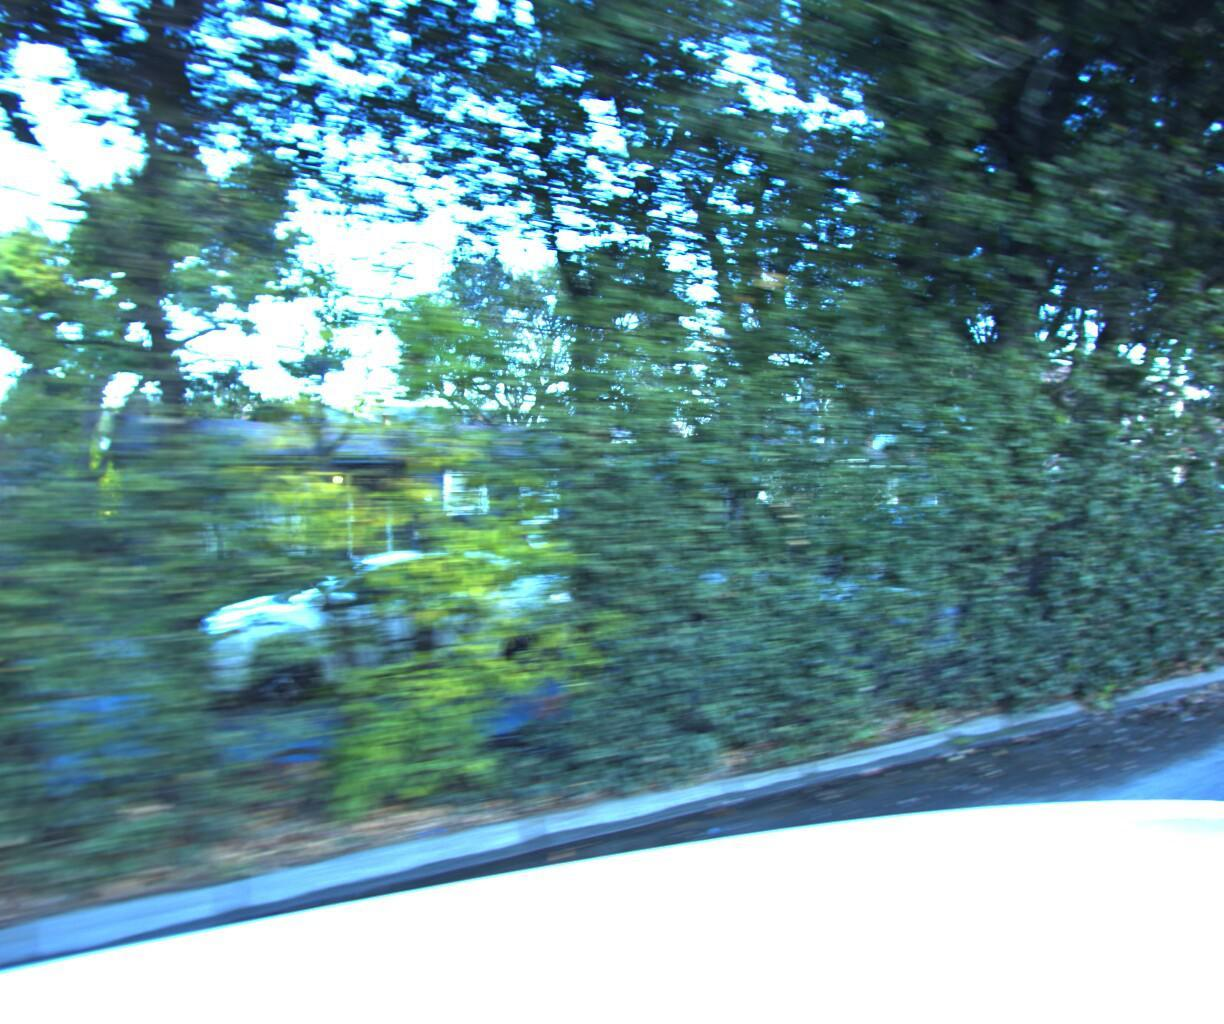car: (158, 538, 606, 725)
